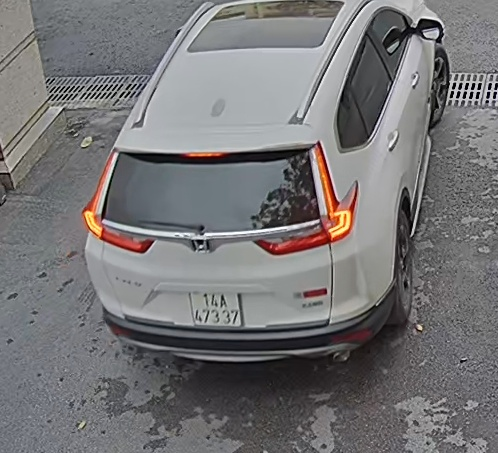vehicle plate: (186, 285, 251, 331)
